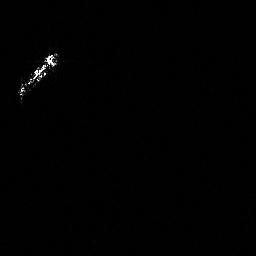ship: (14, 50, 61, 99)
